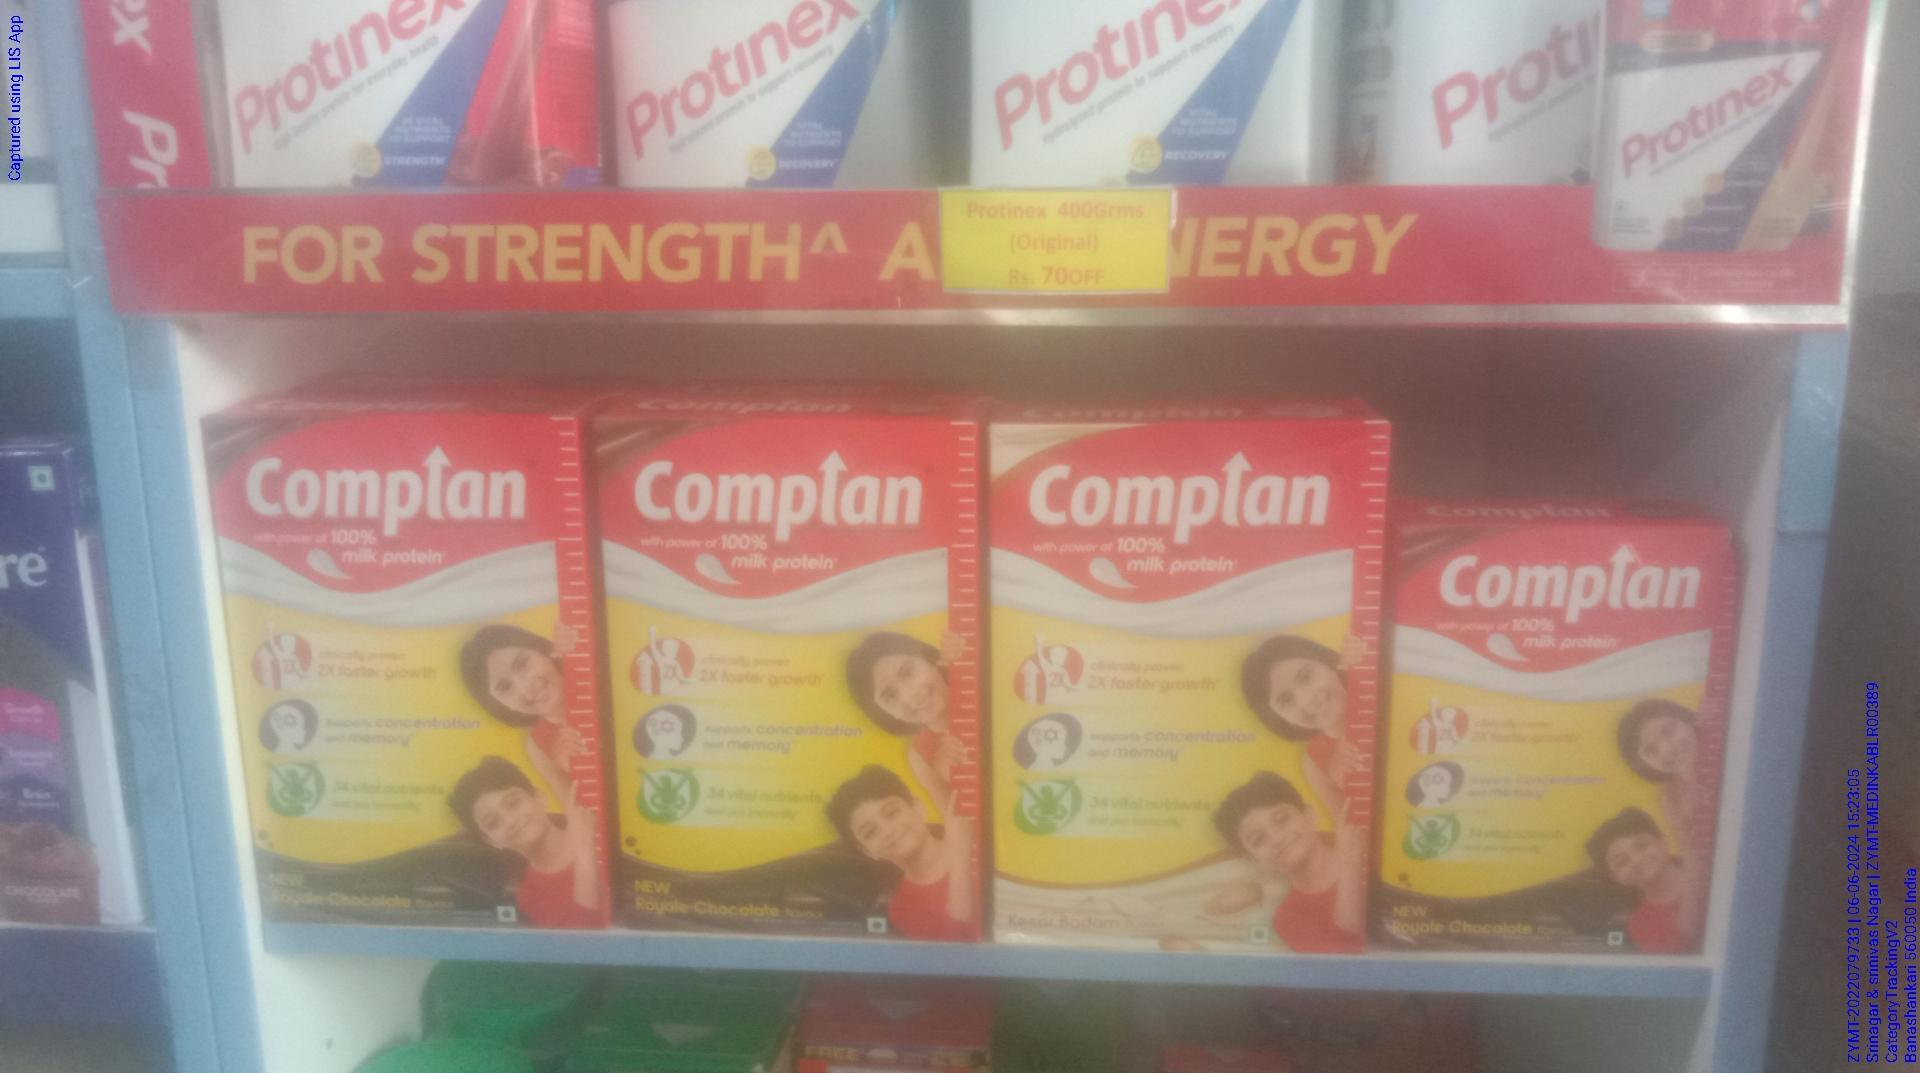COMPLAN_CHOCOLATE_200_GMS_PACK: (1387, 514, 1726, 948)
